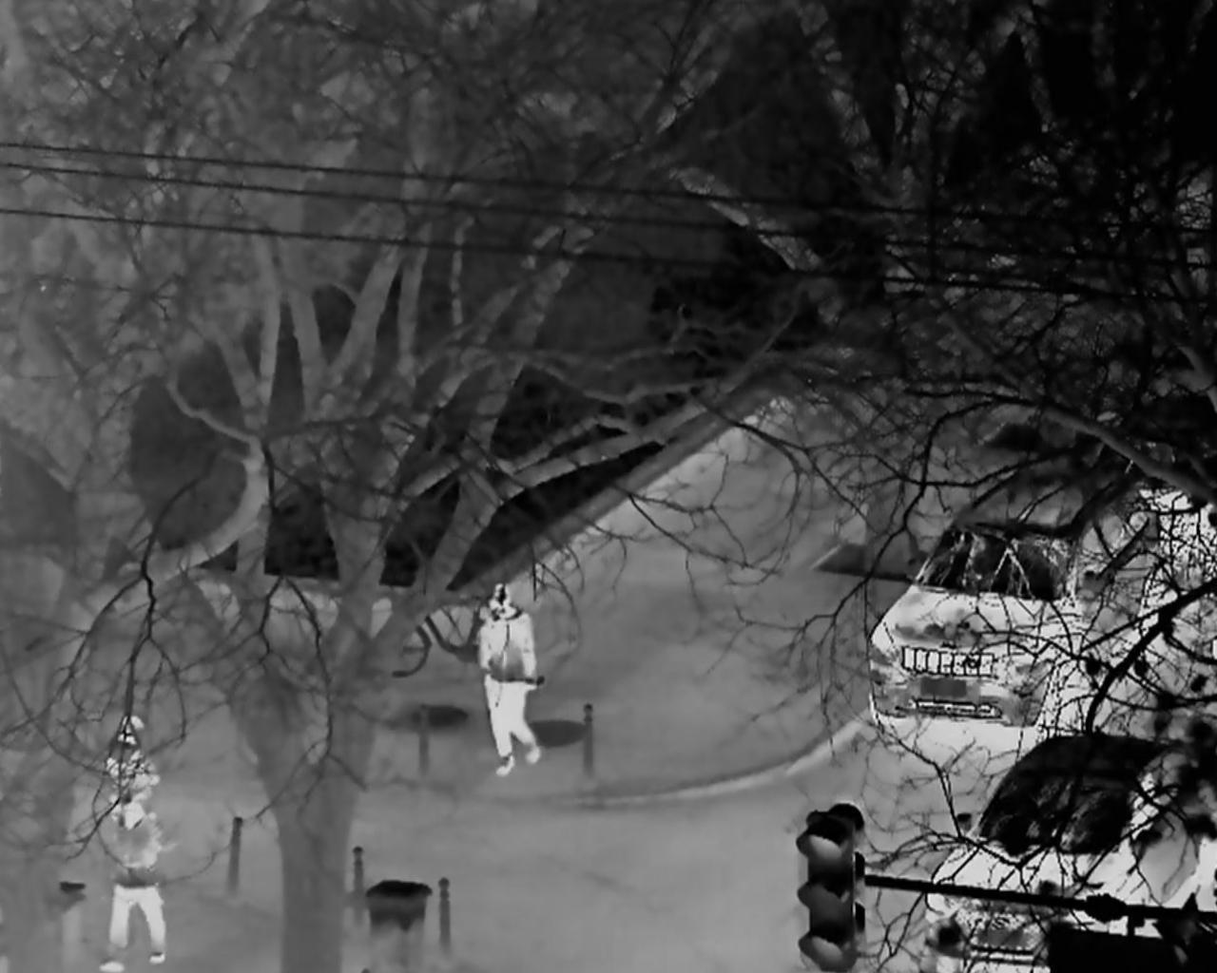person: (477, 581, 545, 777), (101, 801, 167, 971)
